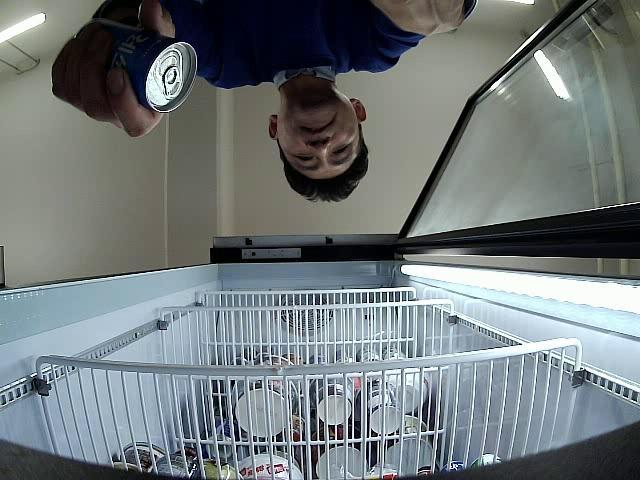15_letsbe: (72, 21, 198, 114)
